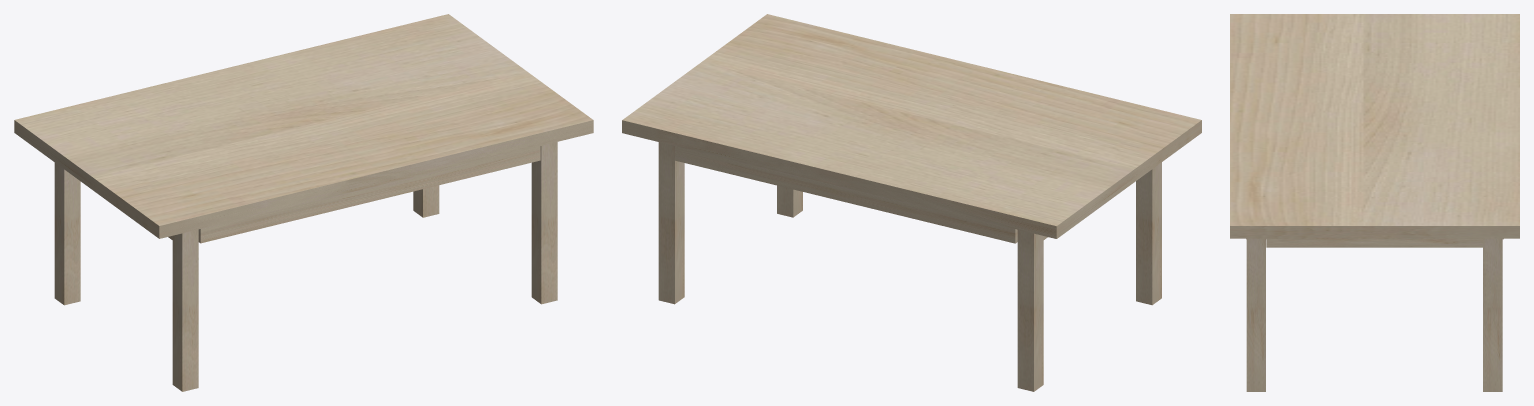
Rendered from table.glb.
The picture shows the model from 3 angles, left to right: view 1: azimuth 30°, elevation 25°; view 2: azimuth 150°, elevation 25°; view 3: azimuth 270°, elevation 25°; orthographic projection.
Visible parts, largest first — view 1: Cube.006; view 2: Cube.006; view 3: Cube.006.
Boxes of the visible parts, <box> form: Cube.006: <box>14,14,593,391</box>; Cube.006: <box>622,14,1201,391</box>; Cube.006: <box>1230,14,1519,391</box>.
Size of the model in its own units: 2.05 by 0.8123 by 1.19.
9 materials, 9 textured.
